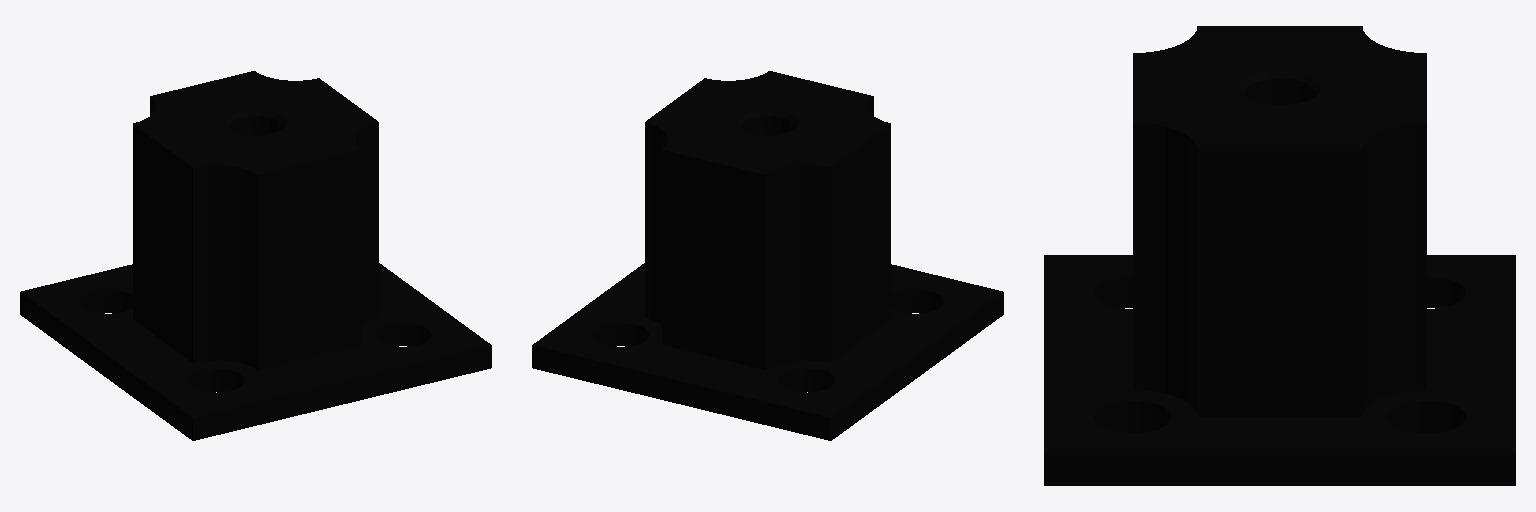
URDF robot description (luxtac_round_hole_5mm):
<?xml version="1.0"?>
<!-- Socket for a 5mm cylindrical peg: O6.0mm bore, 25mm deep, 28mm overall, on a
     40x40x3mm plate. The second component of each alignment subassembly. -->
<robot name="luxtac_round_hole_5mm">
    <link name="luxtac_round_hole_5mm">
        <visual>
            <geometry>
                <mesh filename="../mesh/luxtac_round_hole_5mm.obj"/>
            </geometry>
            <material name="black">
                <color rgba="0.05 0.05 0.05 1"/>
            </material>
        </visual>
        <collision>
            <geometry>
                <mesh filename="../mesh/luxtac_round_hole_5mm.obj"/>
            </geometry>
            <sdf resolution="256"/>
        </collision>
    </link>
</robot>

--- Render facts (derived) ---
3 views of the same robot in one strip: view 1: azimuth 30°, elevation 25°; view 2: azimuth 150°, elevation 25°; view 3: azimuth 270°, elevation 25° (orthographic).
Model luxtac_round_hole_5mm with 1 links and 0 joints (none), rooted at luxtac_round_hole_5mm, posed all joints at 0.
Visible links, largest first — view 1: luxtac_round_hole_5mm; view 2: luxtac_round_hole_5mm; view 3: luxtac_round_hole_5mm.
Boxes of the visible links, box(x1,y1,x2,y2) form: luxtac_round_hole_5mm: box(20, 71, 491, 440); luxtac_round_hole_5mm: box(532, 71, 1003, 440); luxtac_round_hole_5mm: box(1044, 26, 1515, 485).
Bounding box of the posed robot: 0.04 × 0.04 × 0.028 m (x, y, z).
1 mesh visuals loaded from 1 distinct referenced files (1 OBJ).
